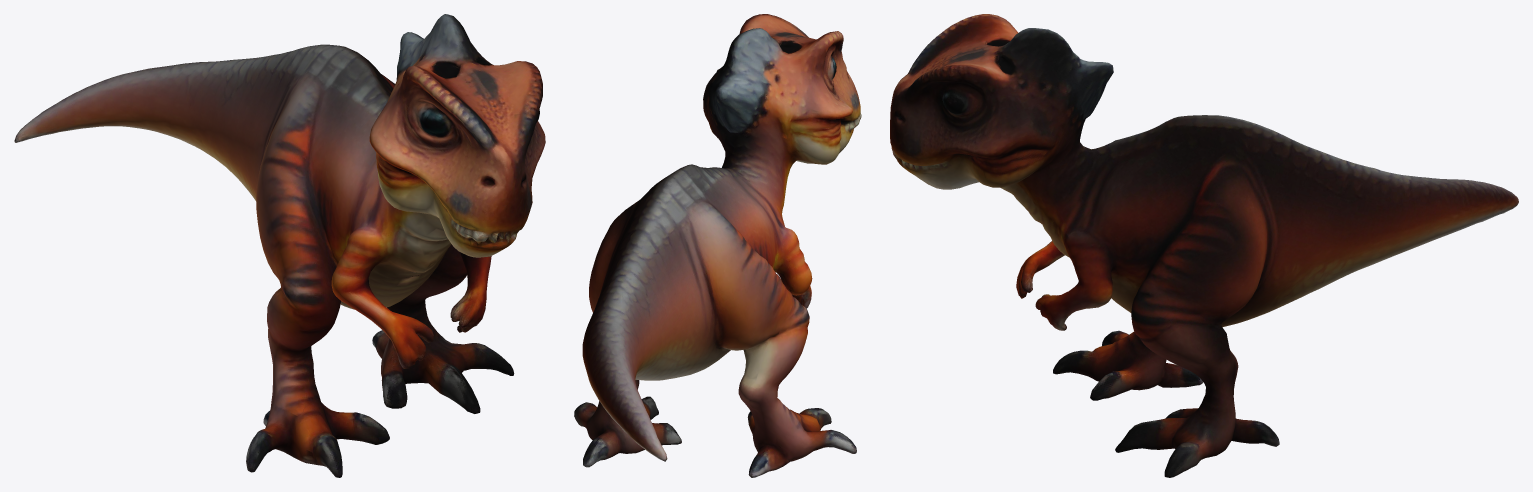
Rendered from asset.glb.
The picture shows the model from 3 angles, left to right: view 1: azimuth 30°, elevation 25°; view 2: azimuth 150°, elevation 25°; view 3: azimuth 270°, elevation 25°; orthographic projection. The views are drawn at different scales.
Parts seen in each view (by area): view 1: world; view 2: world; view 3: world.
Part boxes in pixels (<box>): world: <box>14,14,545,477</box>; world: <box>574,14,861,477</box>; world: <box>890,14,1518,477</box>.
Bounding box in the file's own units: 0.4919 × 0.6955 × 0.9959.
Materials: 1 (1 with a texture image).
